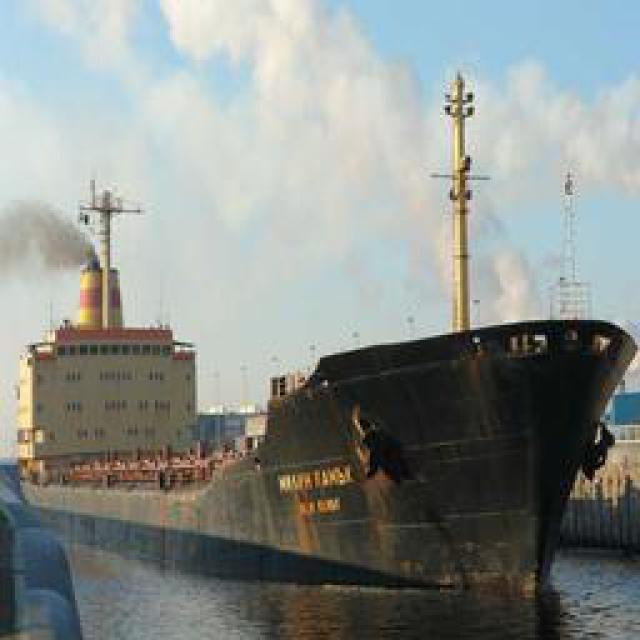Ship: (6, 75, 638, 606)
